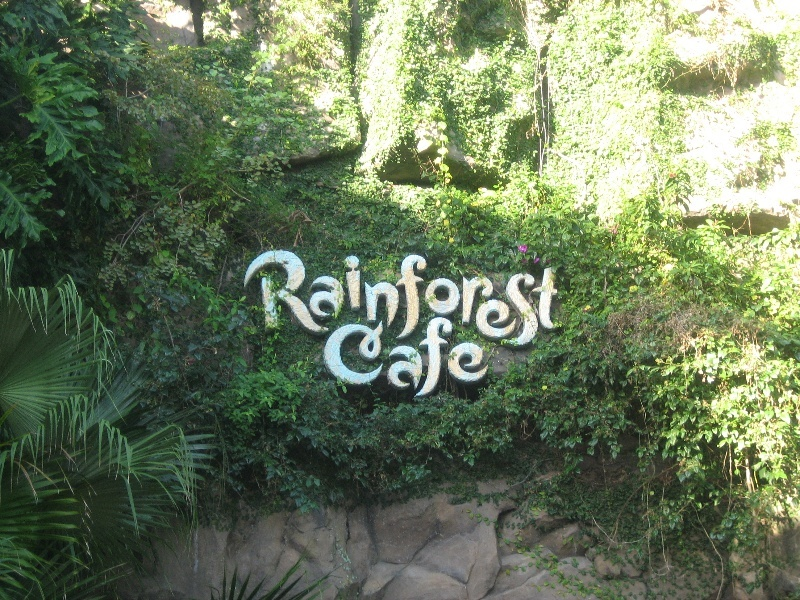text: (337, 312, 352, 411), (353, 312, 368, 411), (369, 312, 384, 411), (385, 312, 400, 411), (401, 312, 416, 411), (417, 312, 432, 411), (433, 312, 448, 411), (449, 312, 464, 411), (465, 312, 480, 411), (481, 312, 496, 411), (241, 249, 256, 346), (257, 249, 272, 346), (273, 249, 288, 346), (289, 249, 304, 346), (305, 249, 320, 346), (321, 249, 336, 346), (337, 249, 352, 346), (353, 249, 368, 346), (369, 249, 384, 346), (385, 249, 400, 346), (401, 249, 416, 346), (417, 249, 432, 346), (433, 249, 448, 346), (449, 249, 464, 346), (465, 249, 480, 346), (481, 249, 496, 346), (497, 249, 512, 346), (513, 249, 528, 346), (529, 249, 544, 346), (545, 249, 559, 346), (325, 312, 336, 411), (235, 249, 240, 346), (497, 312, 498, 411)
